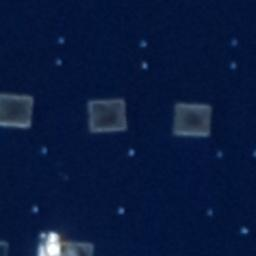square_cover: (167, 97, 217, 143), (83, 95, 131, 136), (1, 92, 37, 132), (50, 239, 100, 256)
